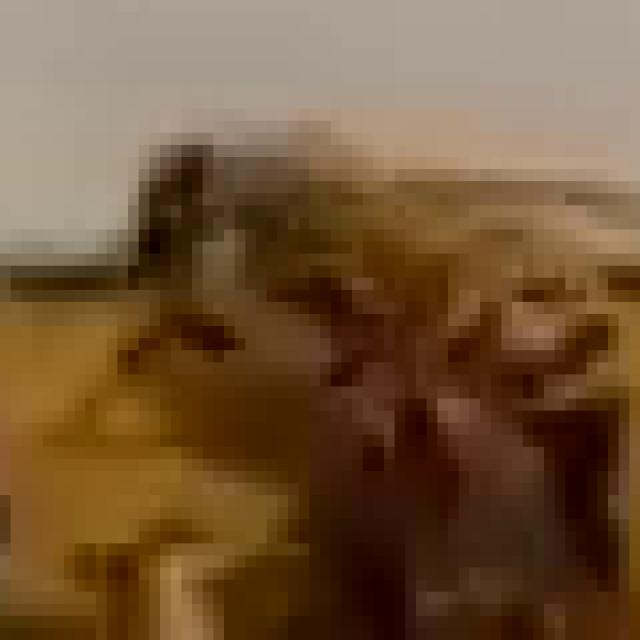honeybee: (117, 61, 640, 544)
